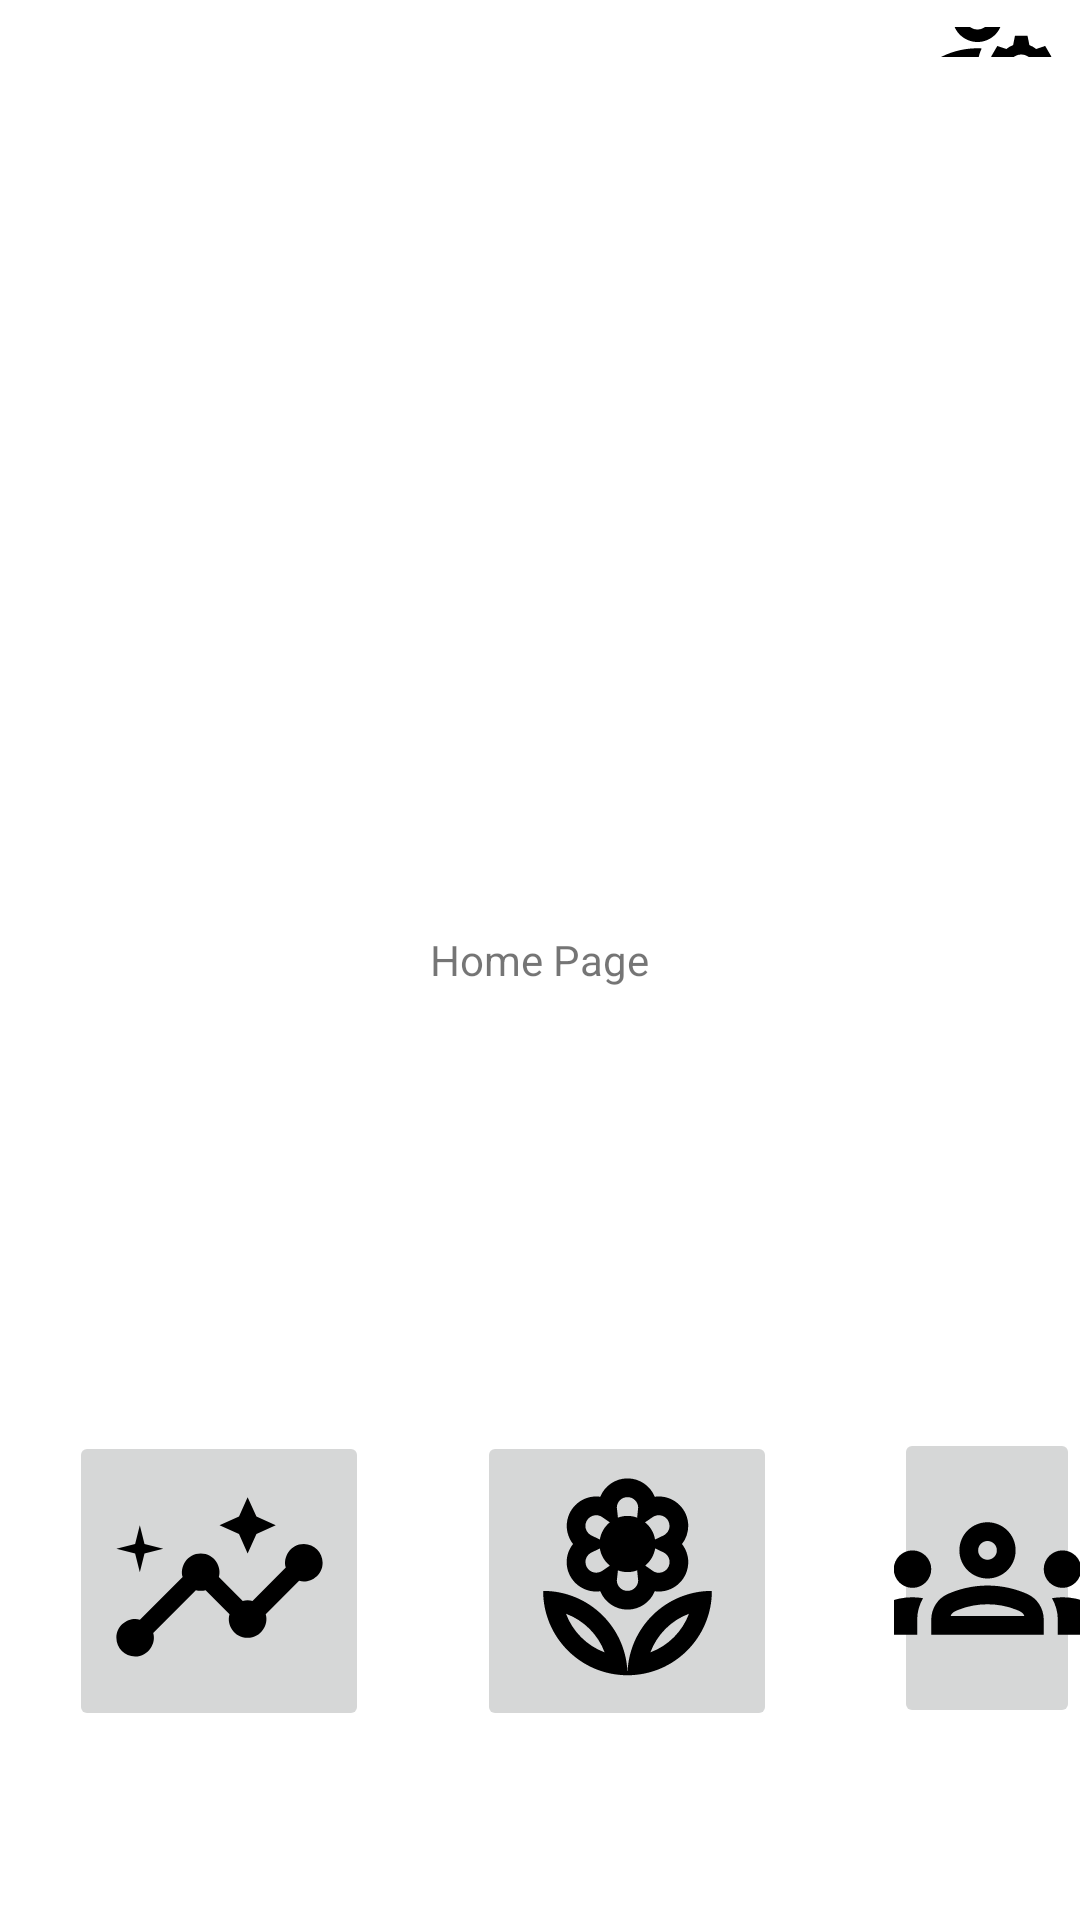

Named icons in this screenshot (1080*1920) and their centers, (x=x, y=y):
groups: (x=987, y=1578)
insights: (x=219, y=1581)
local florist: (x=627, y=1581)
